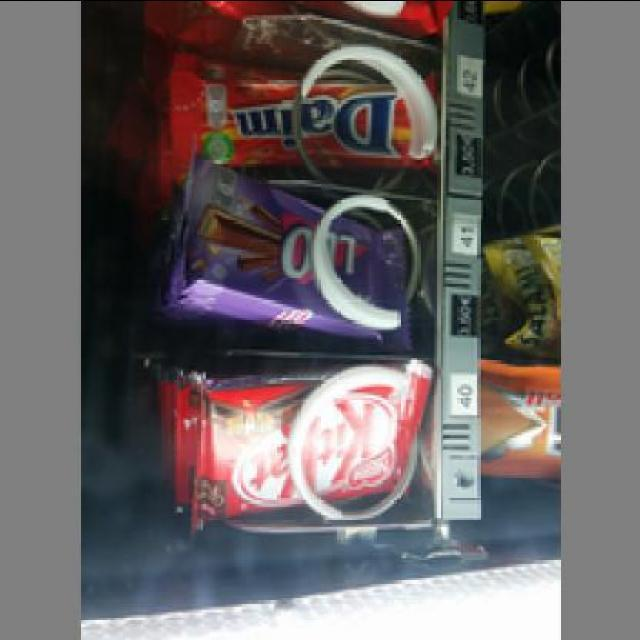Chocolate bar: (180, 360, 429, 540), (171, 168, 420, 344), (166, 54, 420, 183)
